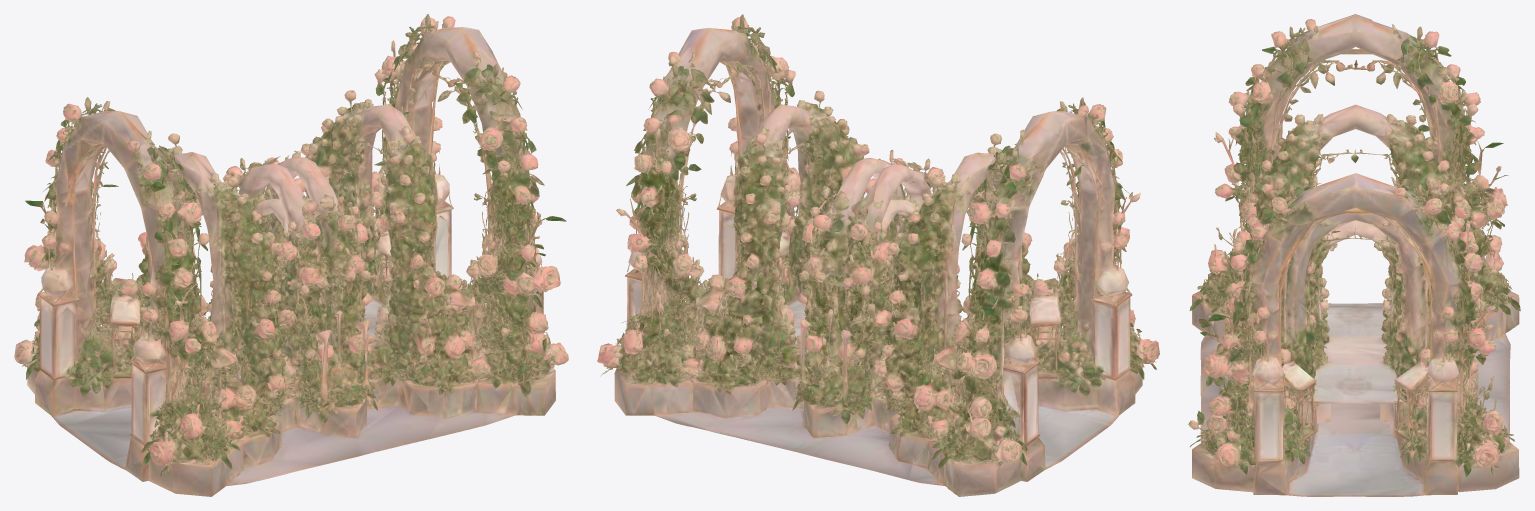
Rendered from trellis-arch.glb.
The picture shows the model from 3 angles, left to right: view 1: azimuth 30°, elevation 25°; view 2: azimuth 150°, elevation 25°; view 3: azimuth 270°, elevation 25°; orthographic projection. The views are drawn at different scales.
Parts seen in each view (by area): view 1: Mesh_0.001; view 2: Mesh_0.001; view 3: Mesh_0.001.
Part boxes in pixels (bbox=[...]): Mesh_0.001: bbox=[14, 14, 568, 496]; Mesh_0.001: bbox=[597, 14, 1159, 496]; Mesh_0.001: bbox=[1188, 14, 1520, 496].
Size of the model in its own units: 2.68 by 2 by 1.96.
Materials: 1 (1 with a texture image).
